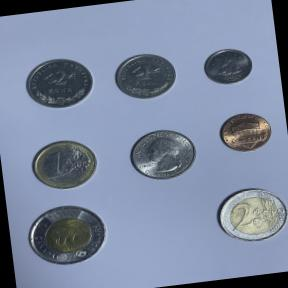1 Euro: (26, 136, 102, 196)
2 Euro: (212, 181, 288, 249)
Canda-10cent-: (198, 44, 256, 90)
Canda-2Dollar-: (21, 198, 114, 272)
Croatia-2Kune-: (19, 53, 100, 115)
US-1cent-: (216, 107, 277, 157)
US-25cent-: (123, 122, 204, 186)
